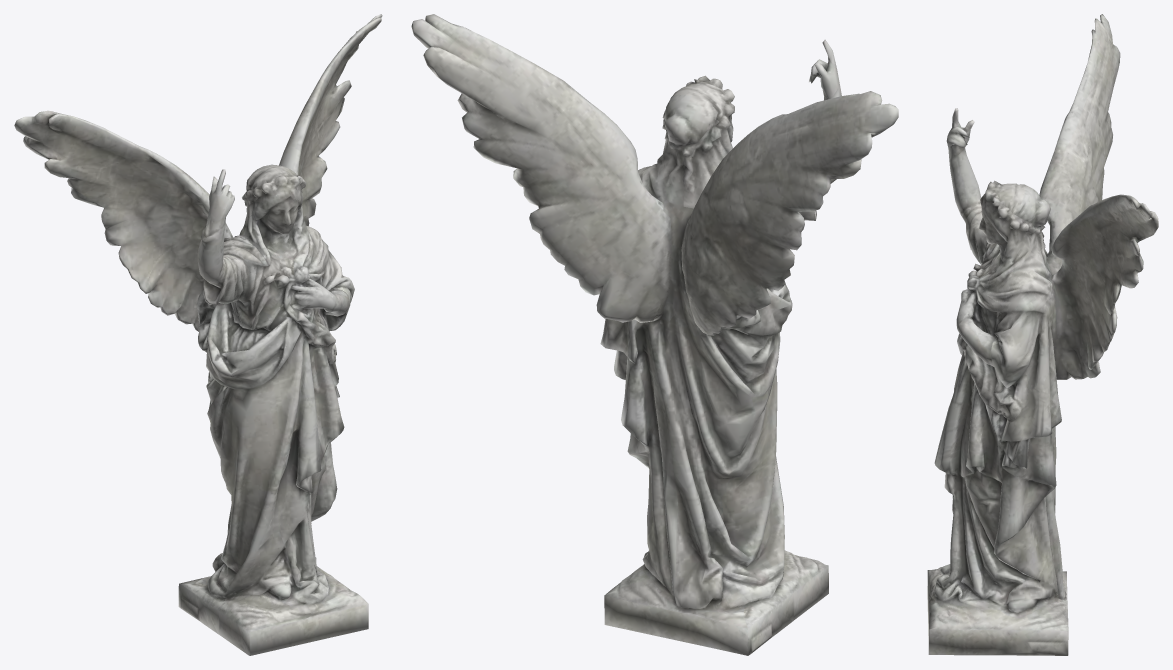
Rendered from angel.glb.
3 renders of one model, left to right at view 1: azimuth 30°, elevation 25°; view 2: azimuth 150°, elevation 25°; view 3: azimuth 270°, elevation 25°, orthographic. The views are drawn at different scales.
Parts seen in each view (by area): view 1: SilverAngel_LP_Unwrap#1_0; view 2: SilverAngel_LP_Unwrap#1_0; view 3: SilverAngel_LP_Unwrap#1_0.
Boxes of the visible parts, x1,y1,x2,y2 form: SilverAngel_LP_Unwrap#1_0: [14, 14, 382, 655]; SilverAngel_LP_Unwrap#1_0: [411, 14, 898, 655]; SilverAngel_LP_Unwrap#1_0: [927, 14, 1158, 655].
Size of the model in its own units: 6.77 by 8.61 by 3.48.
Materials: 1 (1 with a texture image).
